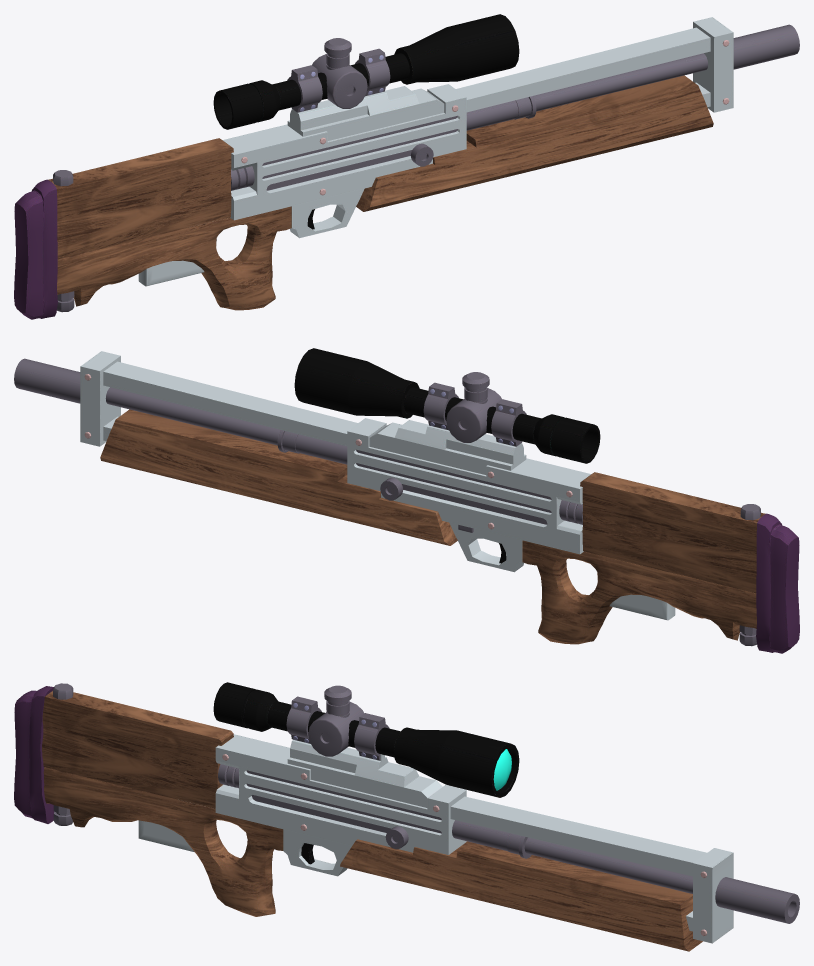
3 renders of one model, top to bottom at view 1: azimuth 30°, elevation 25°; view 2: azimuth 150°, elevation 25°; view 3: azimuth 330°, elevation 25°, orthographic.
Parts seen in each view (by area): view 1: Body, Scope, Magazine; view 2: Body, Scope, Magazine; view 3: Body, Scope, Magazine, ScopeLensFront.
Part boxes in pixels (left/top/right/bottom): Body: left=14, top=17, right=799, bottom=319; Scope: left=213, top=14, right=519, bottom=140; Magazine: left=138, top=260, right=204, bottom=286; Body: left=14, top=351, right=799, bottom=653; Scope: left=294, top=348, right=600, bottom=474; Magazine: left=609, top=594, right=675, bottom=620; Body: left=14, top=683, right=799, bottom=951; Scope: left=213, top=682, right=519, bottom=807; Magazine: left=138, top=820, right=194, bottom=851; ScopeLensFront: left=493, top=749, right=511, bottom=790.
Size of the model in its own units: 1.1 by 0.3325 by 0.0731.
1 material, 1 textured.
